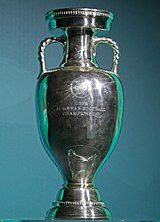trophy: (33, 6, 127, 222)
